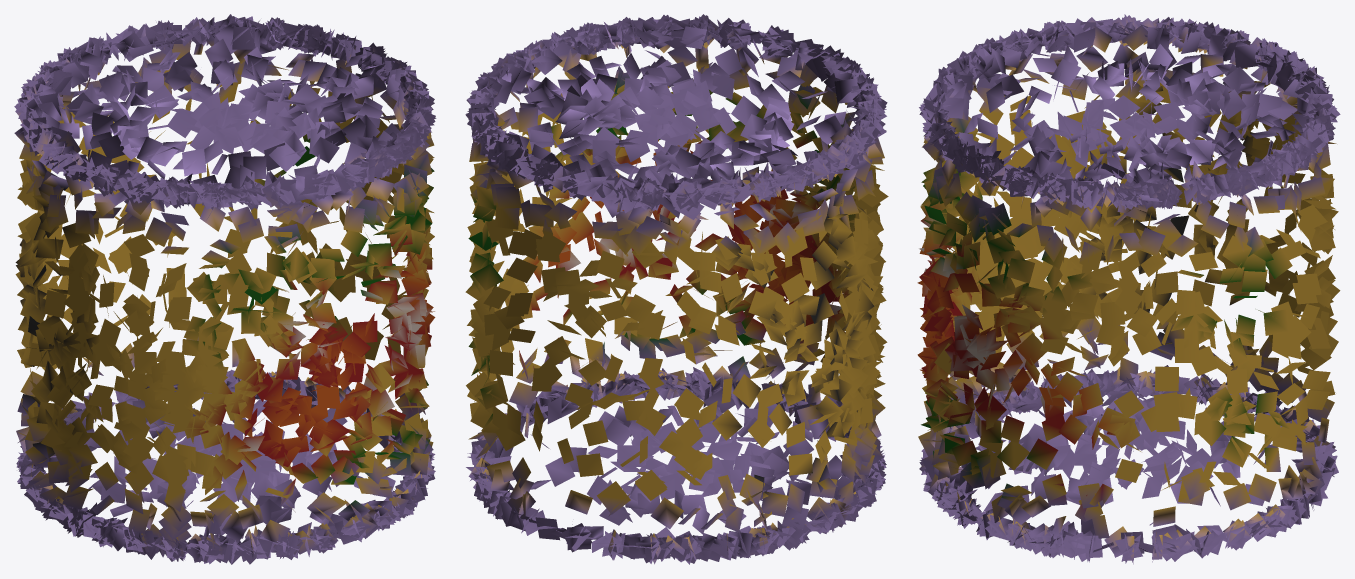
File: TestCan_planes2.fbx
The picture shows the model from 3 angles, left to right: view 1: azimuth 30°, elevation 25°; view 2: azimuth 150°, elevation 25°; view 3: azimuth 270°, elevation 25°; orthographic projection.
Visible parts, largest first — view 1: Plane - copy.125; view 2: Plane - copy.125; view 3: Plane - copy.125.
Part boxes in pixels (bbox=[...]): Plane - copy.125: bbox=[14, 14, 436, 564]; Plane - copy.125: bbox=[465, 14, 888, 564]; Plane - copy.125: bbox=[917, 14, 1340, 564].
Size of the model in its own units: 216 by 217 by 217.
